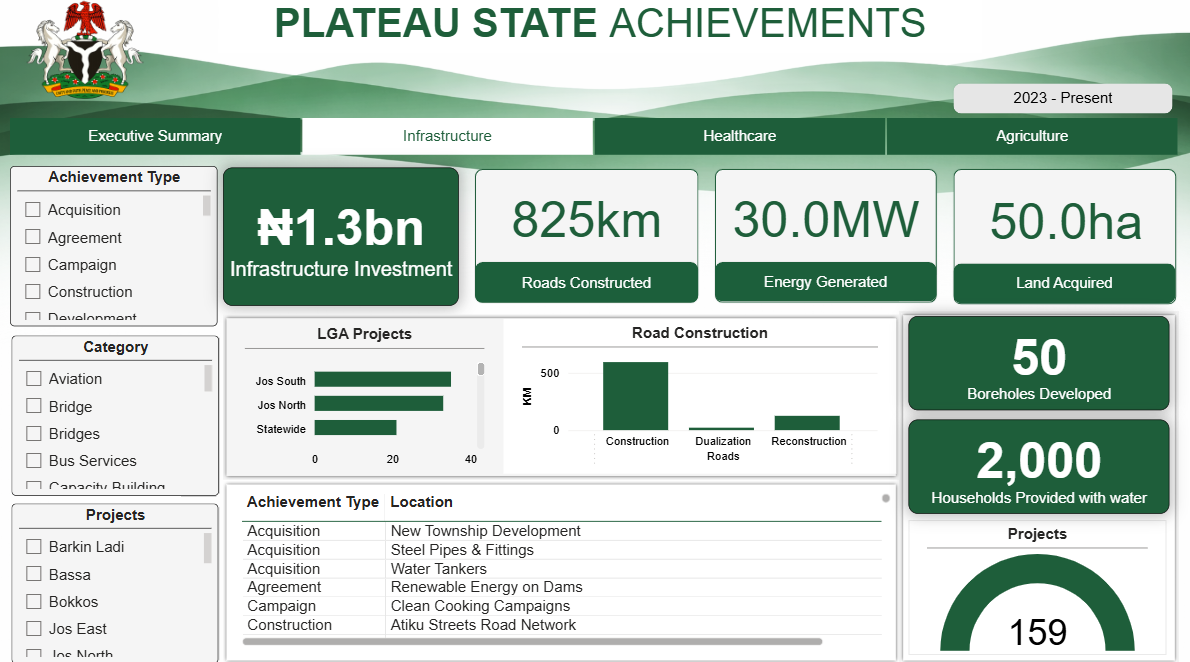

What the dashboard file says about the page in this screenshot:
{"tool":"powerbi","page":{"name":"Infrastructure","canvas":[1280,720],"ordinal":1},"visuals":[{"type":"textbox","box":[240.2,3.2,809.6,62],"z":0},{"type":"image","box":[0,0,197.2,130.4],"z":1000},{"type":"pageNavigator","box":[19.1,133.6,1239.1,39.8],"z":2000},{"type":"slicer","title":"Achievement Type","fields":{"Values":["KPI_Infrastructure.Achievement Type"]},"box":[19.1,184.5,220,170],"z":3000},{"type":"slicer","title":"Category","fields":{"Values":["KPI_Infrastructure.Category"]},"box":[20,364,220,170],"z":4000},{"type":"textbox","box":[245,186.8,250,146.6],"z":5000,"group":"g3"},{"type":"slicer","title":"Projects","fields":{"Values":["KPI_Infrastructure.LGA "]},"box":[20.7,542.4,219.5,170.2],"z":5000},{"type":"card","fields":{"Values":["00_Measures.Total Investment (Infrastructure)"]},"box":[245,185,250,146.6],"z":6000,"group":"g3"},{"type":"group","id":"g1","title":"Group 1","box":[765,185,238.3,146.7],"z":6000},{"type":"group","id":"g2","title":"Group 3","box":[510,185,240,146.7],"z":7000},{"type":"shape","box":[510,186.8,240,144.9],"z":7000,"group":"g2"},{"type":"textbox","box":[971.9,343.2,276.7,99.7],"z":7000,"group":"g6"},{"type":"textbox","box":[971.9,452.1,276.7,99.7],"z":7000,"group":"g7"},{"type":"group","id":"g3","title":"Group 4","box":[245,185,250,146.7],"z":8000},{"type":"shape","box":[765,186.8,238.3,144.9],"z":8000,"group":"g1"},{"type":"group","id":"g4","title":"Group 5","box":[1018.3,186.7,240,146.7],"z":9000},{"type":"shape","box":[1018.3,186.7,239.3,146.7],"z":9000,"group":"g4"},{"type":"card","fields":{"Values":["00_Measures.Total Km (Display)"]},"box":[510,185,240,105.5],"z":10000,"group":"g2"},{"type":"group","id":"g5","title":"Group 2","box":[962.3,338.8,295.9,373.8],"z":10000},{"type":"shape","box":[962.3,338.8,295.9,373.8],"z":10000,"group":"g5"},{"type":"card","fields":{"Values":["00_Measures.Boreholes dug"]},"box":[971.9,342,276.7,99.7],"z":10000,"group":"g6"},{"type":"card","fields":{"Values":["00_Measures.Households Provided with water"]},"box":[971.9,450.9,276.7,99.7],"z":10000,"group":"g7"},{"type":"card","fields":{"Values":["00_Measures.Megwatts Generated (Display)"]},"box":[765,185,238.3,105.5],"z":11000,"group":"g1"},{"type":"shape","box":[245,341.7,717.4,175.2],"z":11000},{"type":"card","fields":{"Values":["00_Measures.Land Acquired (Display)"]},"box":[1019.5,187,238.8,106.6],"z":12000,"group":"g4"},{"type":"barChart","title":"LGA Projects","fields":{"Category":["KPI_Infrastructure.LGA "],"Y":["CountNonNull(KPI_Infrastructure.Category)"]},"box":[248.1,348.3,294.3,162.2],"z":12000},{"type":"shape","box":[510,285.2,240,46.5],"z":13000,"group":"g2"},{"type":"shape","box":[245,518.5,717.4,194.1],"z":13000},{"type":"shape","box":[765,285.8,238.1,45],"z":14000,"group":"g1"},{"type":"columnChart","title":"Road Construction","fields":{"Category":["KPI_Infrastructure.Category","KPI_Infrastructure.Achievement Type"],"Y":["Sum(KPI_Infrastructure.Value)"]},"box":[542.4,346.8,416.7,163.8],"z":14000},{"type":"shape","box":[1018.3,287,238.5,45.4],"z":15000,"group":"g4"},{"type":"gauge","title":"Projects","fields":{"Y":["CountNonNull(KPI_Infrastructure.Category)"]},"box":[971.9,559.9,273.6,143.2],"z":15000},{"type":"tableEx","fields":{"Values":["KPI_Infrastructure.Achievement Type","KPI_Infrastructure.Location"]},"box":[259.3,526.5,698.3,171.8],"z":16000},{"type":"group","id":"g6","title":"Group 6","box":[971.9,342,276.8,101.8],"z":17000},{"type":"group","id":"g7","title":"Group 6","box":[971.9,450.9,276.8,101.8],"z":18000},{"type":"shape","box":[1018,95.4,235.4,35],"z":19000}]}

Visuals, with their boxes in screenshot pixels (x1, y1, x2, y2), scaled from the page's 1280x720 canvas onto the 1190x662 screenshot:
textbox: 223:3:976:60
image: 0:0:183:120
pageNavigator: 18:123:1170:159
"Achievement Type" slicer: 18:170:222:326
"Category" slicer: 19:335:223:491
textbox: 228:172:460:307
"Projects" slicer: 19:499:223:655
card - 00_Measures.Total Investment (Infrastructure): 228:170:460:305
"Group 1" group: 711:170:933:305
"Group 3" group: 474:170:697:305
shape: 474:172:697:305
textbox: 904:316:1161:407
textbox: 904:416:1161:507
"Group 4" group: 228:170:460:305
shape: 711:172:933:305
"Group 5" group: 947:172:1170:307
shape: 947:172:1169:307
card - 00_Measures.Total Km (Display): 474:170:697:267
"Group 2" group: 895:312:1170:655
shape: 895:312:1170:655
card - 00_Measures.Boreholes dug: 904:314:1161:406
card - 00_Measures.Households Provided with water: 904:415:1161:506
card - 00_Measures.Megwatts Generated (Display): 711:170:933:267
shape: 228:314:895:475
card - 00_Measures.Land Acquired (Display): 948:172:1170:270
"LGA Projects" barChart: 231:320:504:469
shape: 474:262:697:305
shape: 228:477:895:655
shape: 711:263:933:304
"Road Construction" columnChart: 504:319:892:469
shape: 947:264:1168:306
"Projects" gauge: 904:515:1158:646
tableEx - KPI_Infrastructure.Achievement Type x KPI_Infrastructure.Location: 241:484:890:642
"Group 6" group: 904:314:1161:408
"Group 6" group: 904:415:1161:508
shape: 946:88:1165:120
